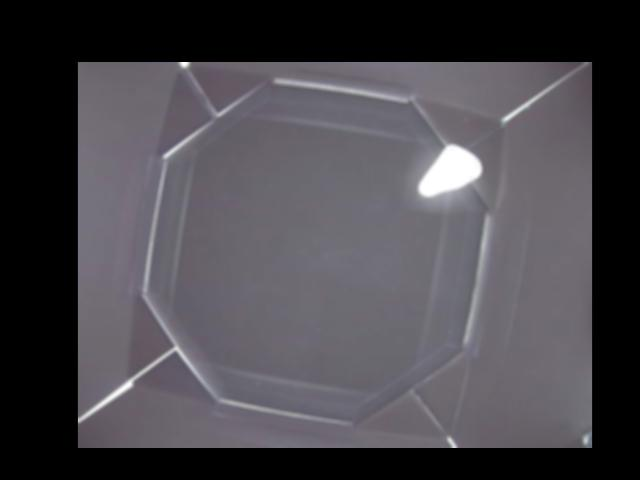Pebble: (417, 143, 483, 199)
